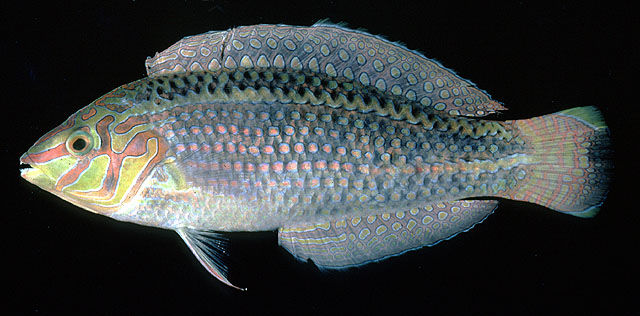fish: (17, 19, 609, 289)
